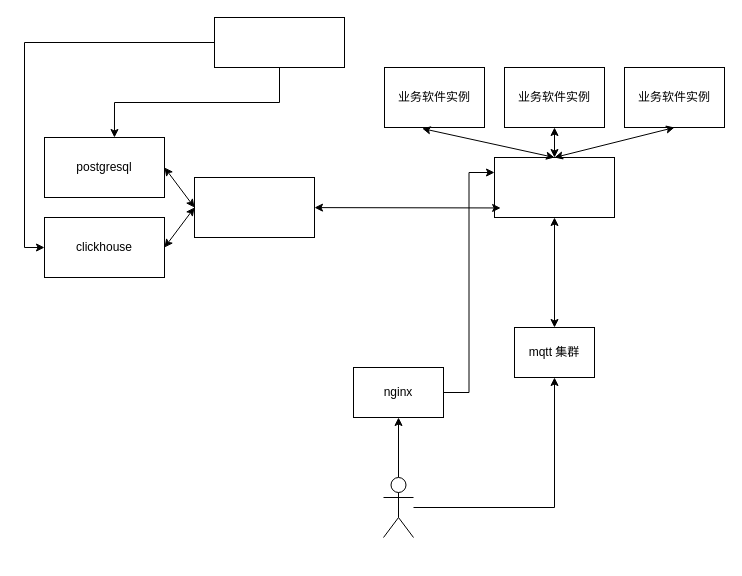
The diagram is 742 pixels wide and 576 high, and some of its shapes have lost their labels. Each missing label, with the box of its shape:
Actor: (382, 476, 414, 538)
kafka 集群: (494, 156, 614, 218)
nfs: (214, 16, 344, 68)
redis: (194, 176, 314, 238)
